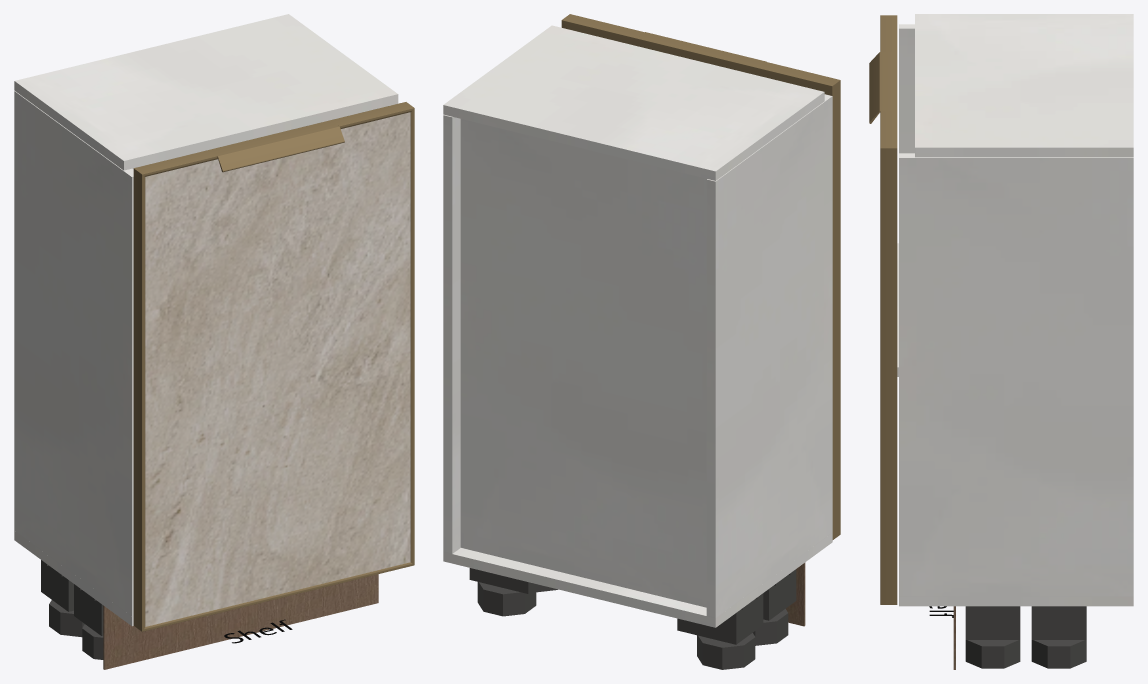
The model's file is BCL-SH-TTS-ST-1SX-RHS-XXX-450-720-336-15.glb.
The picture shows the model from 3 angles, left to right: view 1: azimuth 30°, elevation 25°; view 2: azimuth 150°, elevation 25°; view 3: azimuth 270°, elevation 25°; orthographic projection.
Visible parts, largest first — view 1: Object_node_12, TP_node, TP_node_1, Object_node_14, Extrusion_node_4, ExtrSplGeo, Extrusion_node_2, Extrusion_node, Extrusion_node_3, TP, Plate, Plate_node_0 (+2 smaller); view 2: TP_node_3, TP_node, TP_node_1, TP_node_0, TP, Extrusion_node_4, Extrusion_node, ExtrSplGeo, Plate, Foot, Foot_node, Plate_node_0 (+3 smaller); view 3: TP_node_0, TP_node_1, Extrusion_node_2, TP, TP_node, Plate_node, Plate_node_1, ExtrSplGeo, Foot_node, Foot_node_1, Extrusion_node.
Boxes of the visible parts, bbox=[...] form: Object_node_12: bbox=[145, 112, 410, 626]; TP_node: bbox=[14, 91, 133, 616]; TP_node_1: bbox=[14, 14, 398, 170]; Object_node_14: bbox=[103, 574, 378, 669]; Extrusion_node_4: bbox=[133, 168, 145, 631]; ExtrSplGeo: bbox=[209, 120, 344, 172]; Extrusion_node_2: bbox=[410, 108, 414, 564]; Extrusion_node: bbox=[134, 102, 414, 176]; Extrusion_node_3: bbox=[142, 562, 413, 631]; TP: bbox=[14, 531, 133, 626]; Plate: bbox=[41, 560, 73, 611]; Plate_node_0: bbox=[74, 584, 103, 635]; TP_node_3: bbox=[460, 119, 706, 607]; TP_node: bbox=[706, 94, 832, 618]; TP_node_1: bbox=[443, 25, 824, 180]; TP_node_0: bbox=[443, 114, 460, 553]; TP: bbox=[443, 533, 832, 627]; Extrusion_node_4: bbox=[824, 80, 840, 539]; Extrusion_node: bbox=[562, 14, 840, 91]; ExtrSplGeo: bbox=[636, 32, 766, 75]; Plate: bbox=[677, 593, 763, 644]; Foot: bbox=[697, 633, 755, 669]; Foot_node: bbox=[477, 582, 536, 616]; Plate_node_0: bbox=[763, 569, 796, 620]; TP_node_0: bbox=[899, 153, 1133, 596]; TP_node_1: bbox=[915, 14, 1133, 157]; Extrusion_node_2: bbox=[880, 148, 897, 604]; TP: bbox=[899, 596, 1133, 606]; TP_node: bbox=[899, 24, 914, 153]; Plate_node: bbox=[1031, 606, 1086, 639]; Plate_node_1: bbox=[965, 606, 1020, 639]; ExtrSplGeo: bbox=[869, 52, 897, 123]; Foot_node: bbox=[1031, 640, 1086, 668]; Foot_node_1: bbox=[965, 640, 1020, 668]; Extrusion_node: bbox=[880, 15, 897, 148].
Size of what is drawn, in the model's own units: 0.45 by 0.82 by 0.376.
6 materials, 3 textured.
